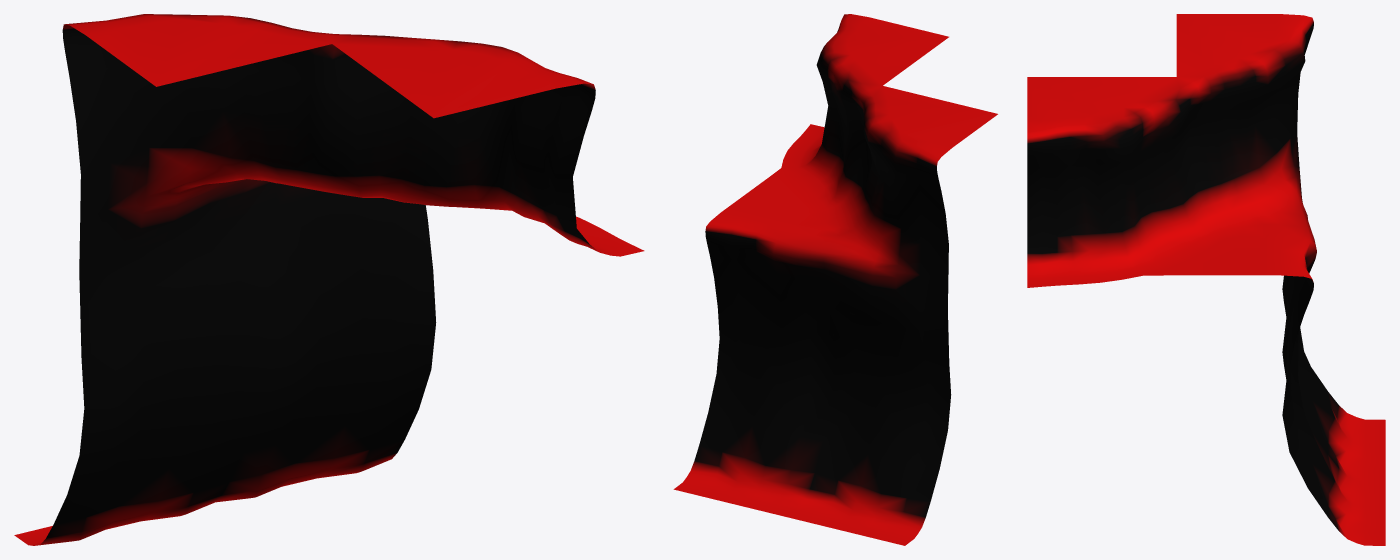
File: Cliff 2x1x3 Background.fbx
The picture shows the model from 3 angles, left to right: view 1: azimuth 30°, elevation 25°; view 2: azimuth 150°, elevation 25°; view 3: azimuth 270°, elevation 25°; orthographic projection. The views are drawn at different scales.
Parts seen in each view (by area): view 1: Cliff 2x1x3 Background; view 2: Cliff 2x1x3 Background; view 3: Cliff 2x1x3 Background.
Part boxes in pixels (x1,y1,x2,y2): Cliff 2x1x3 Background: (14,14,644,545); Cliff 2x1x3 Background: (673,14,997,545); Cliff 2x1x3 Background: (1027,14,1385,545).
Bounding box in the file's own units: 2.2 × 3 × 2.4.
